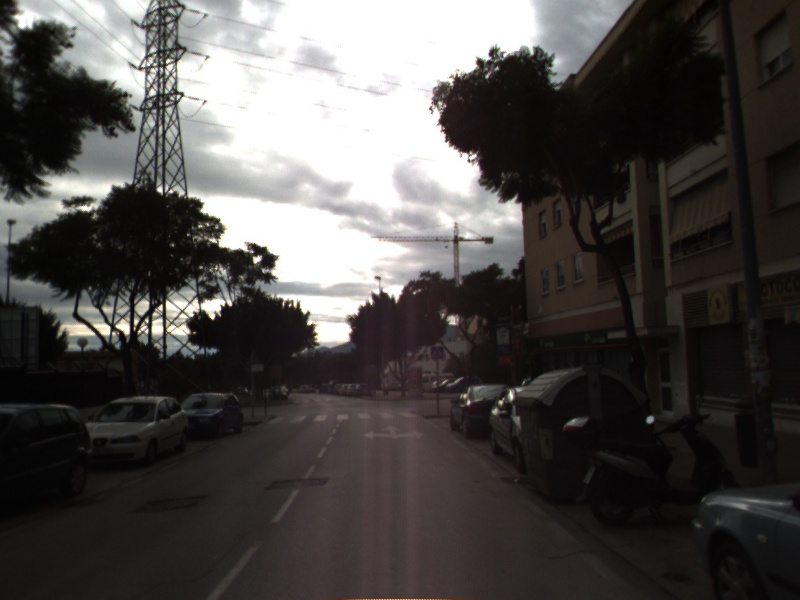STRAIGHT_LEFT_RIGHT: (361, 423, 428, 442)
